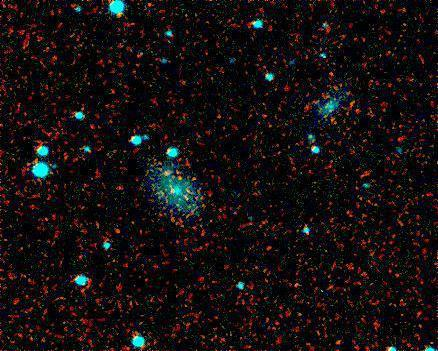star: (152, 158, 182, 188)
